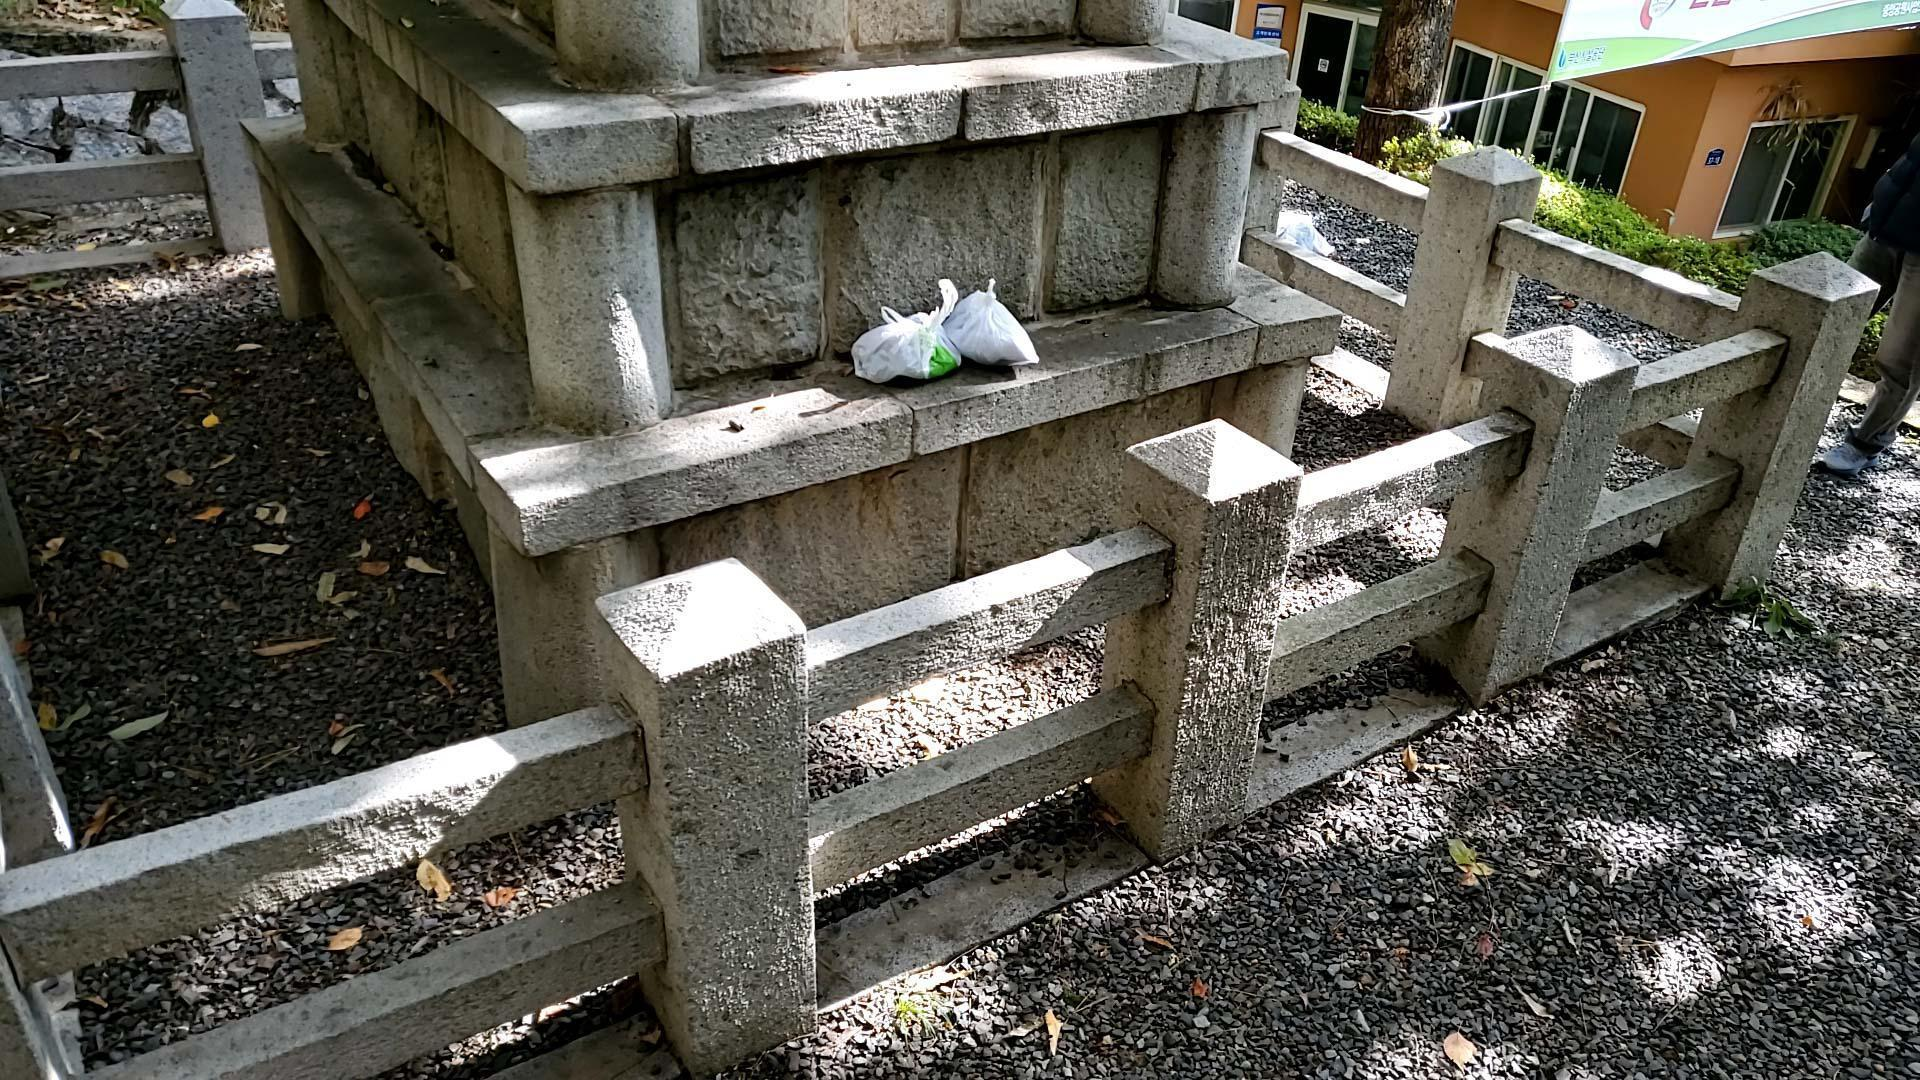white_bag: (837, 273, 967, 385), (944, 280, 1044, 372)
